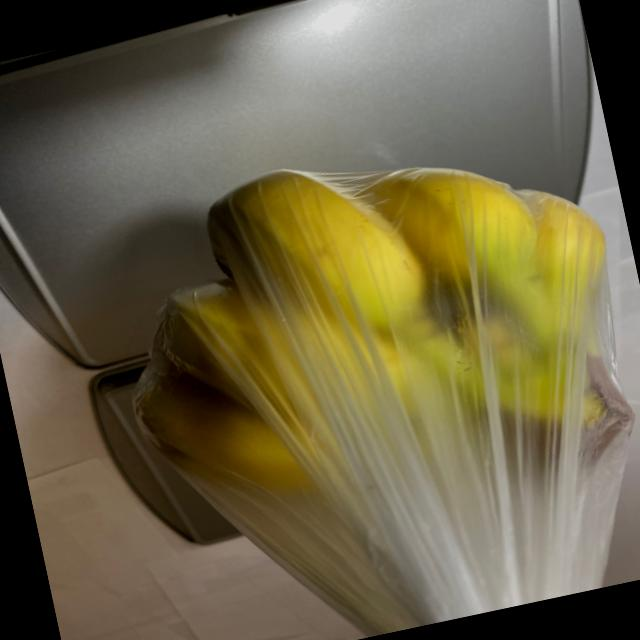banana: (74, 106, 640, 589)
